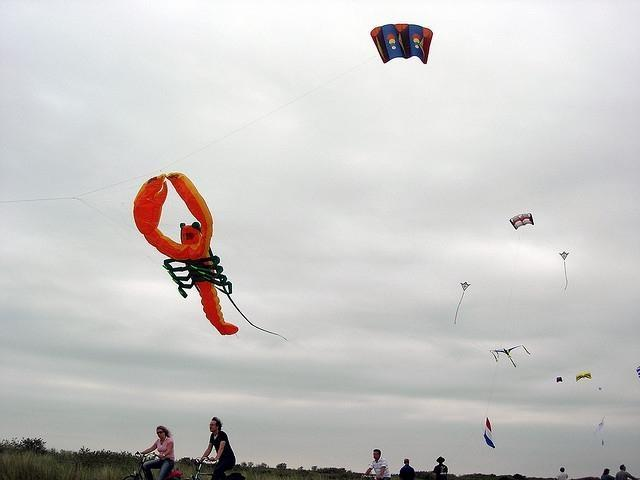bicycle: (123, 452, 183, 480), (185, 457, 248, 480), (349, 469, 358, 479), (367, 476, 378, 480)
